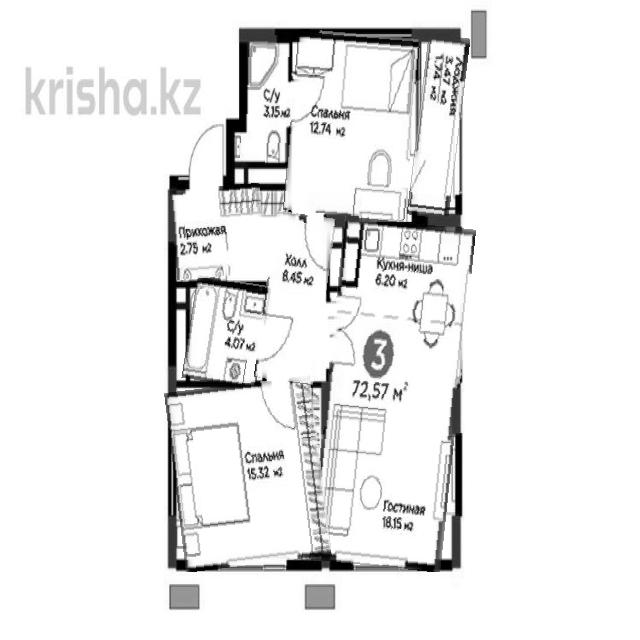balcony: (412, 35, 465, 218)
bathroom: (185, 278, 268, 387), (241, 34, 291, 165)
hallway: (260, 213, 330, 383), (172, 185, 266, 278)
living_room: (169, 379, 326, 568), (287, 32, 417, 218)
studio: (318, 219, 467, 570)
